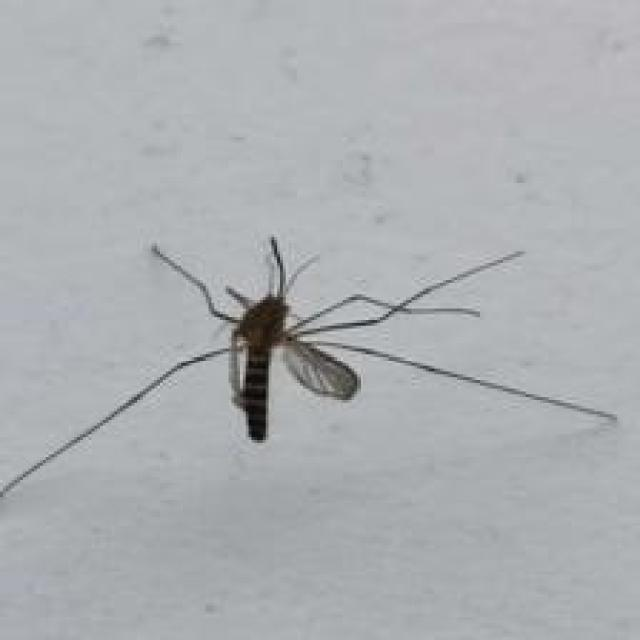Culex: (0, 233, 620, 507)
